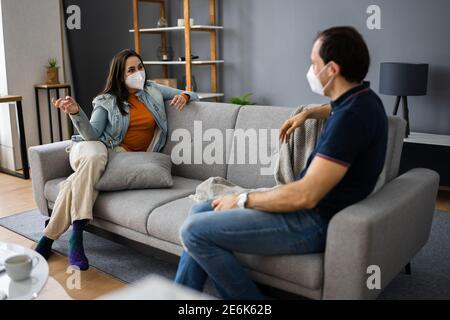OK: (307, 56, 338, 99), (125, 60, 147, 91)
